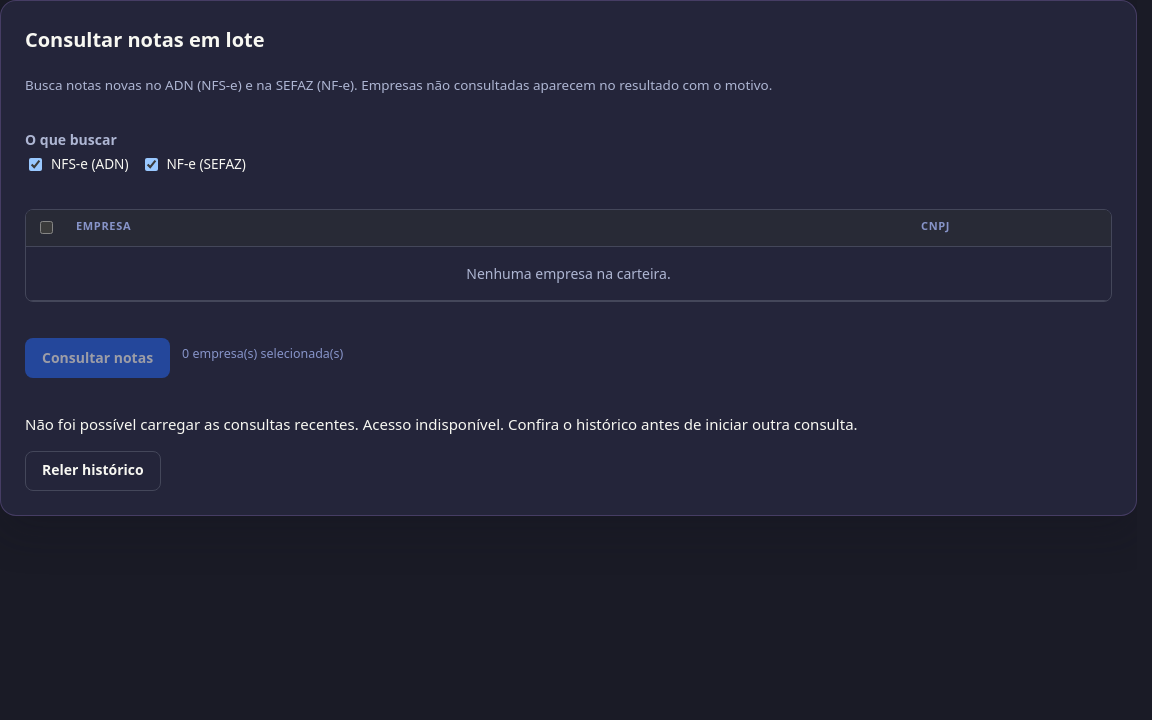
Test: falha do histórico tem recuperação que somente relê registros, sem nova captura
Expected: the message shows "Acesso indisponível.", [25,414,504,434]
Click the button "Reler histórico".
click(93, 470)  # box [25,450,161,490]
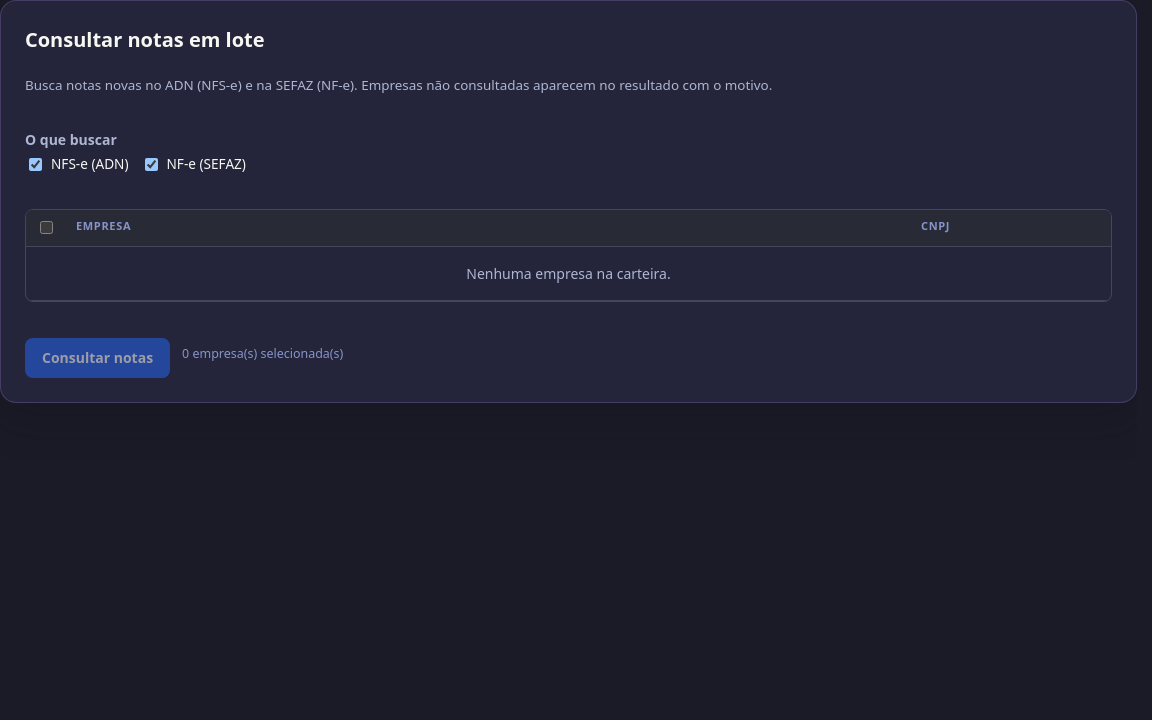
Now the message "Não foi possível carregar as consultas recentes. Acesso indisponível. Confira o" is gone
